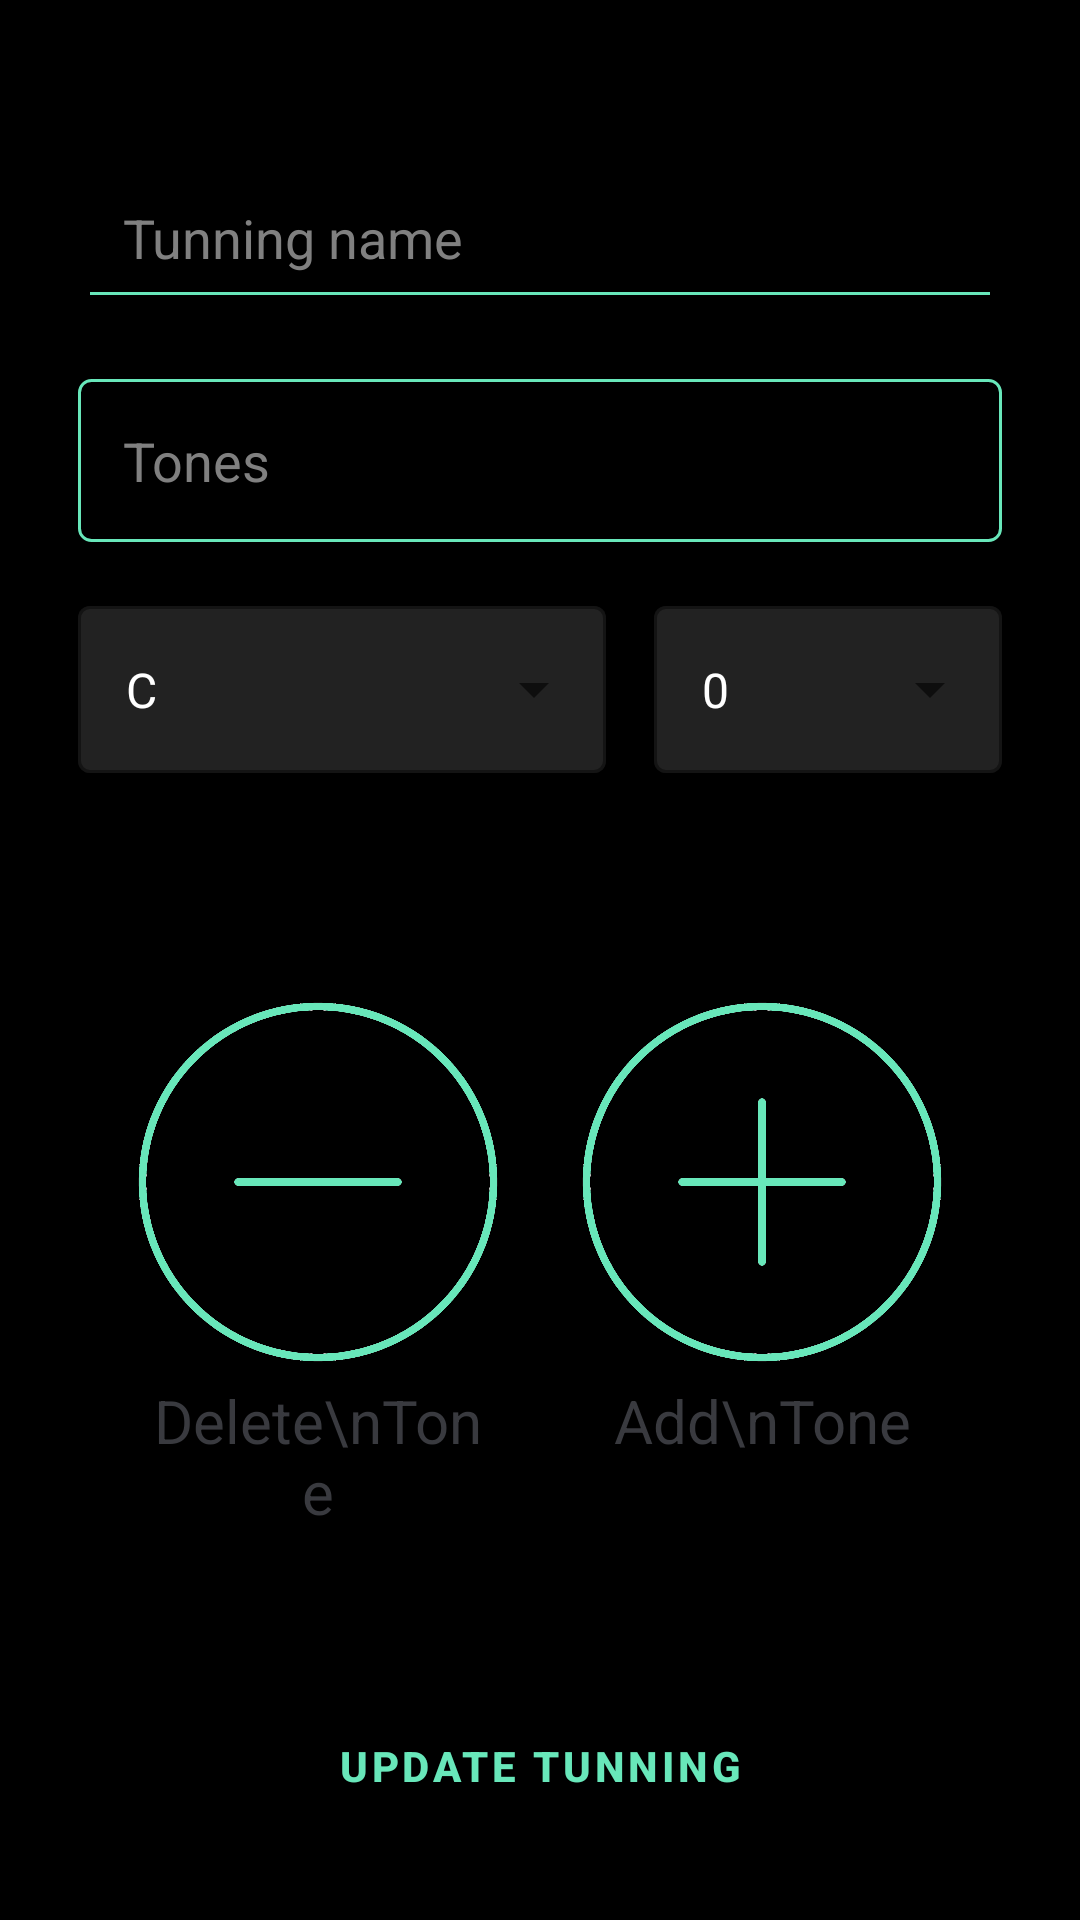

Icons on this 1080×1920 Android screen, each with the point to tap as (x,y):
minus: (318,1182)
plus: (762,1182)
